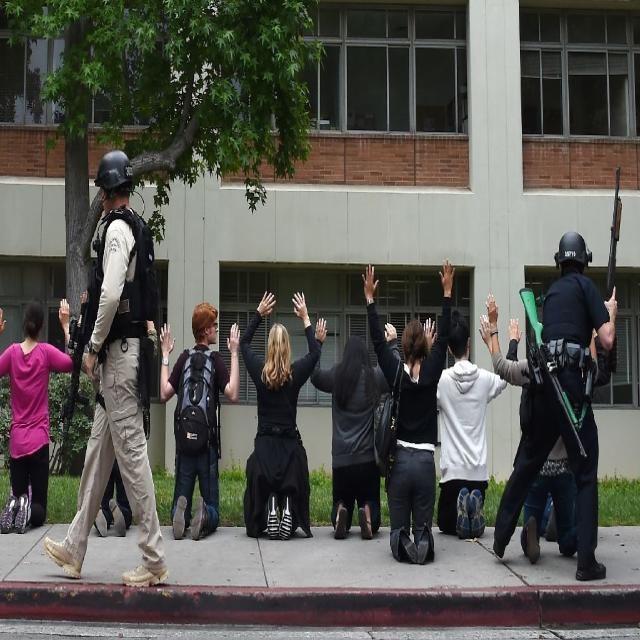body: (39, 144, 174, 592), (490, 223, 620, 587), (481, 289, 600, 568), (361, 256, 457, 568), (410, 311, 511, 541), (308, 310, 404, 544), (154, 298, 244, 543), (237, 285, 319, 548), (0, 294, 74, 536), (521, 469, 578, 552), (91, 453, 134, 542), (502, 310, 530, 368)
